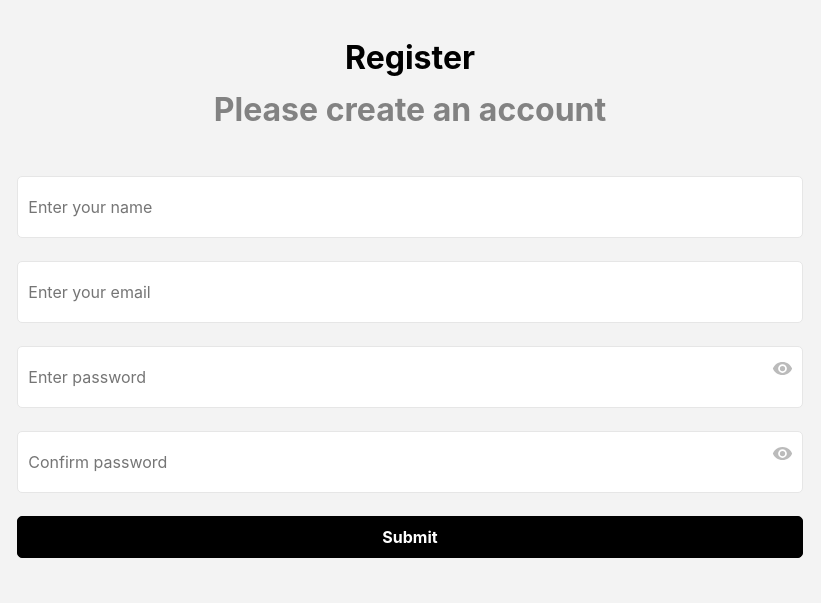
Test case: SignIn › with invalid email › renders the email validation error
Type "invalid email" into the field with placeholder "Enter your email" at [410, 292], box top-left (17, 261), bottom-right (803, 323)
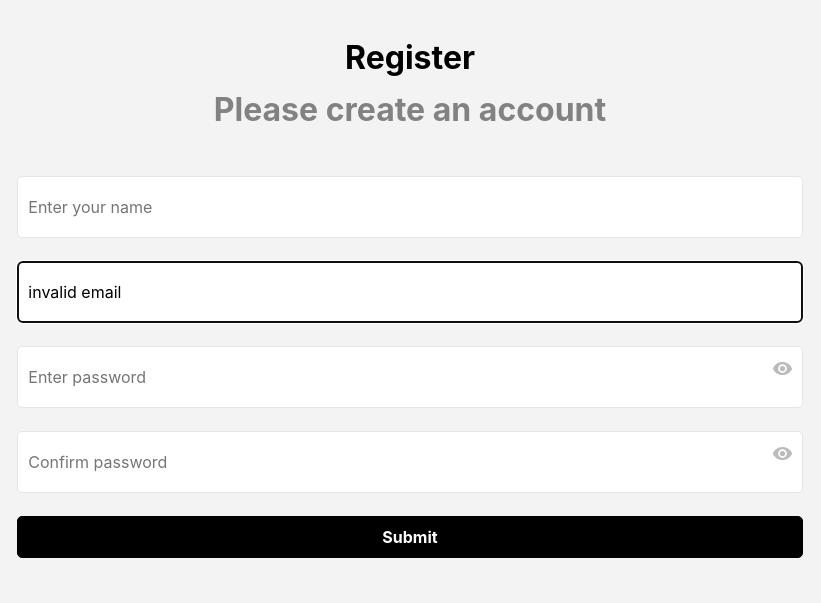
Click the button at [410, 537], box top-left (17, 516), bottom-right (803, 558)
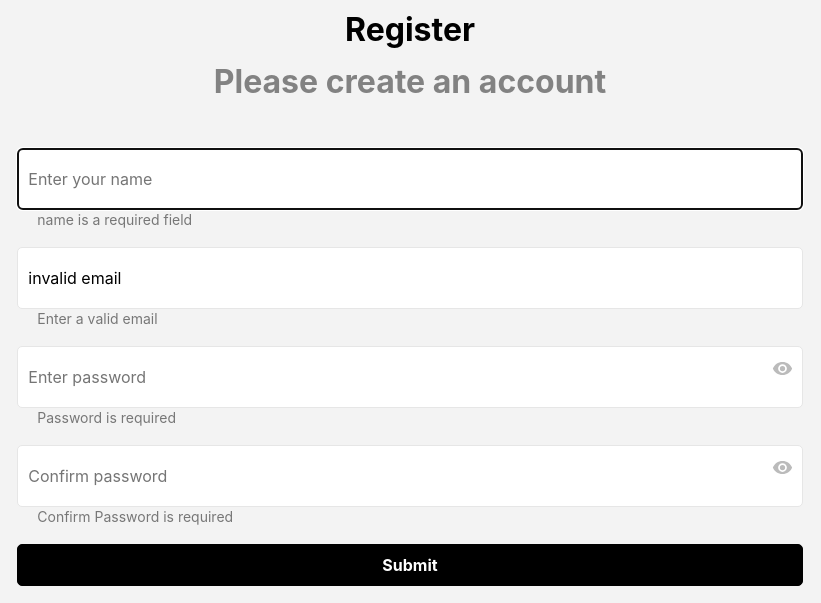
expect the 3rd text "Enter a valid email" is shown: met, box top-left (37, 310), bottom-right (158, 327)
